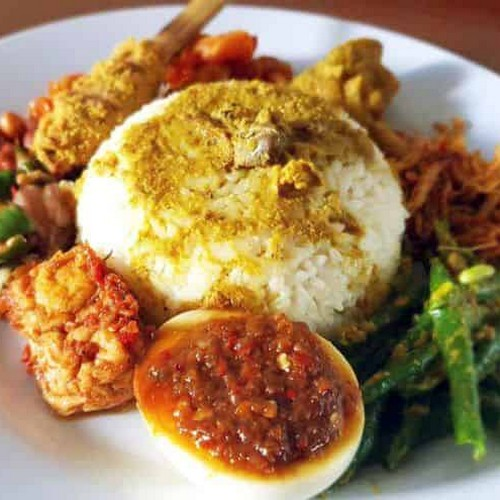nasi campur bali: (17, 32, 482, 485)
